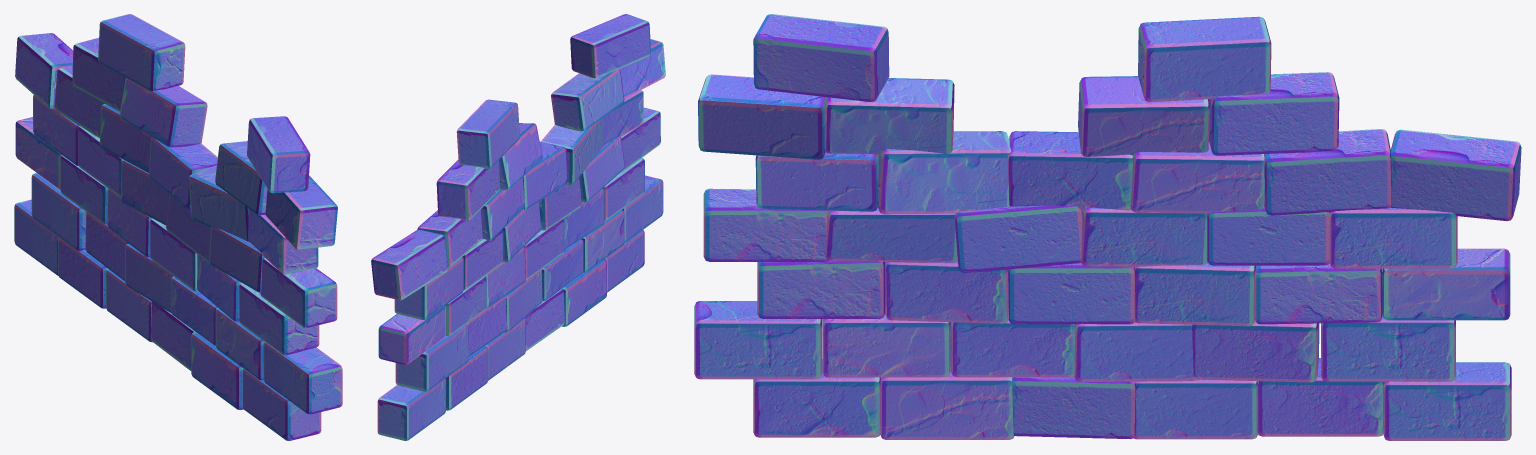
Rendered from Dungeon_WallBricksSmallFade4.fbx.
The picture shows the model from 3 angles, left to right: view 1: azimuth 30°, elevation 25°; view 2: azimuth 150°, elevation 25°; view 3: azimuth 270°, elevation 25°; orthographic projection. The views are drawn at different scales.
Visible parts, largest first — view 1: MeshHP; view 2: MeshHP; view 3: MeshHP.
Part boxes in pixels (x1,y1,x2,y2): MeshHP: (14,14,342,440); MeshHP: (371,14,665,440); MeshHP: (694,14,1521,440).
Size of the model in its own units: 0.4671 by 2.35 by 4.38.
